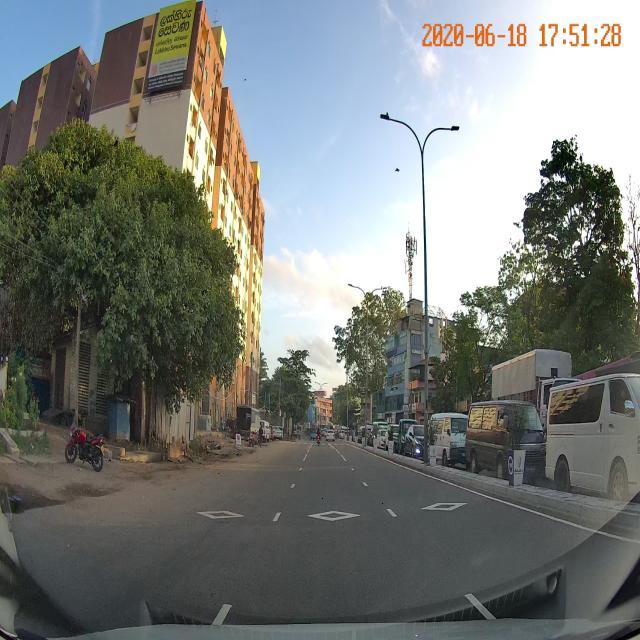diamond: (258, 491, 419, 543)
